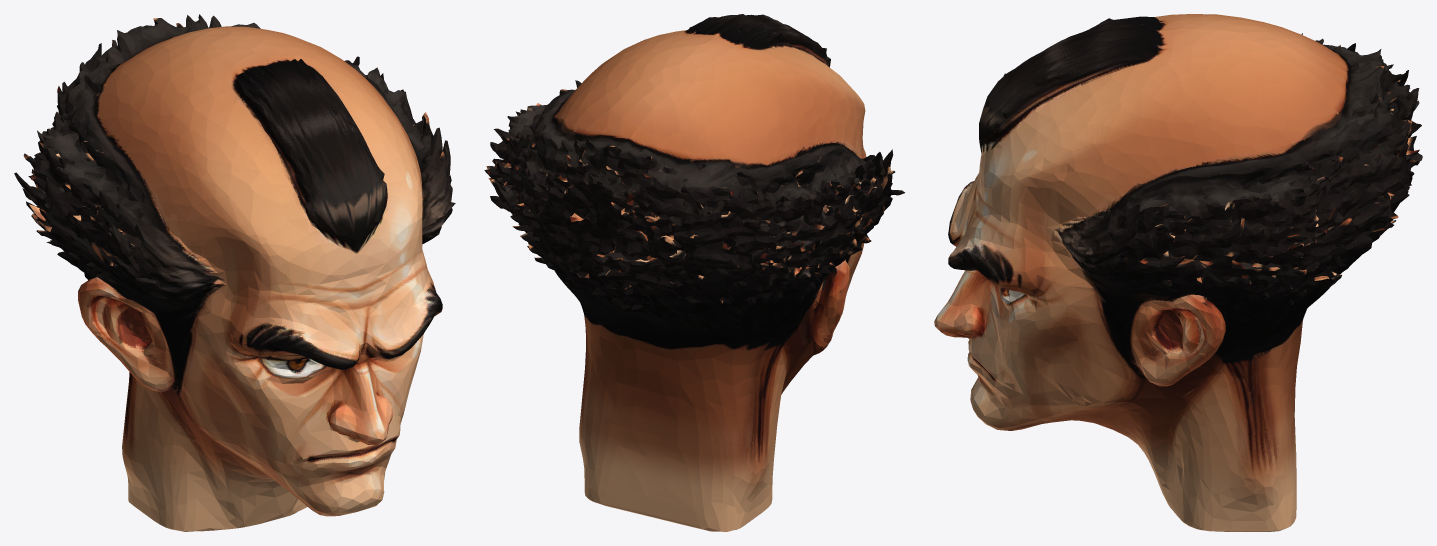
File: side_hojato_repaired_atlas.glb
3 renders of one model, left to right at view 1: azimuth 30°, elevation 25°; view 2: azimuth 150°, elevation 25°; view 3: azimuth 270°, elevation 25°, orthographic. The views are drawn at different scales.
Parts seen in each view (by area): view 1: temp_mesh.ply; view 2: temp_mesh.ply; view 3: temp_mesh.ply.
Boxes of the visible parts, x1=… form: temp_mesh.ply: x1=14, y1=14, x2=455, y2=531; temp_mesh.ply: x1=484, y1=14, x2=904, y2=531; temp_mesh.ply: x1=934, y1=14, x2=1422, y2=531.
Size of the model in its own units: 1.1 by 1.32 by 1.26.
1 material, 1 textured.
